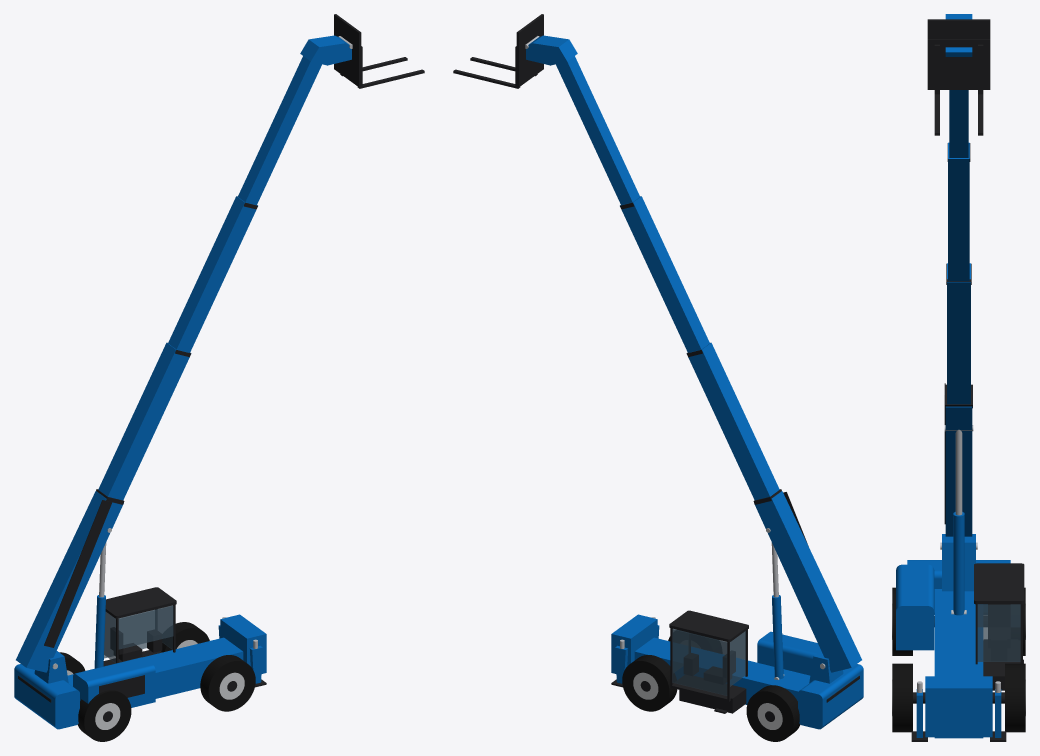
File: telehandler-10k-raised-65.glb
3 renders of one model, left to right at view 1: azimuth 30°, elevation 25°; view 2: azimuth 150°, elevation 25°; view 3: azimuth 270°, elevation 25°, orthographic. The views are drawn at different scales.
Visible parts, largest first — view 1: frame, rear_axle, rear_tyre_1, cab_glass_front, rear_rim_1; view 2: frame, rear_axle, cab_glass_front, rear_tyre_1, rear_rim_1; view 3: frame, rear_axle, rear_tyre_1, cab_glass_front, stabilizer_cyl_1.
Boxes of the visible parts, box(x1,y1,x2,y2) form: frame: box(14, 35, 351, 729); rear_axle: box(18, 14, 424, 721); rear_tyre_1: box(59, 622, 255, 741); cab_glass_front: box(104, 605, 173, 663); rear_rim_1: box(67, 640, 244, 729); frame: box(526, 35, 863, 729); rear_axle: box(453, 14, 859, 721); cab_glass_front: box(672, 628, 745, 695); rear_tyre_1: box(622, 630, 800, 741); rear_rim_1: box(633, 672, 782, 729); frame: box(896, 14, 1010, 738); rear_axle: box(911, 19, 1024, 741); rear_tyre_1: box(892, 587, 1025, 732); cab_glass_front: box(977, 604, 1020, 661); stabilizer_cyl_1: box(917, 425, 1000, 692).
Bounding box in the file's own units: 11.1 × 17.04 × 2.6.
